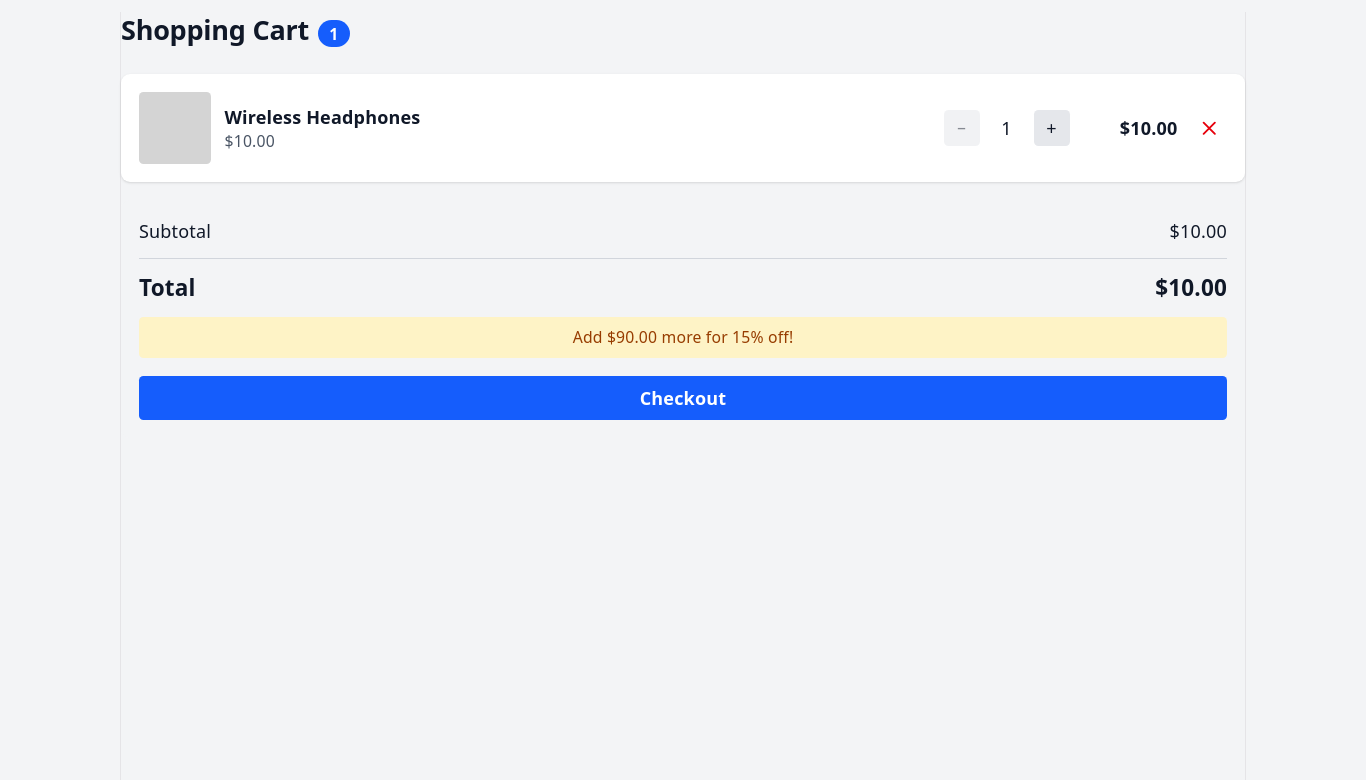
ShoppingCart › when the cart has items › shows the empty message after removing the last item
Click the button named "Remove Wireless Headphones from cart" at (1209, 128), box [1191,110,1227,146]
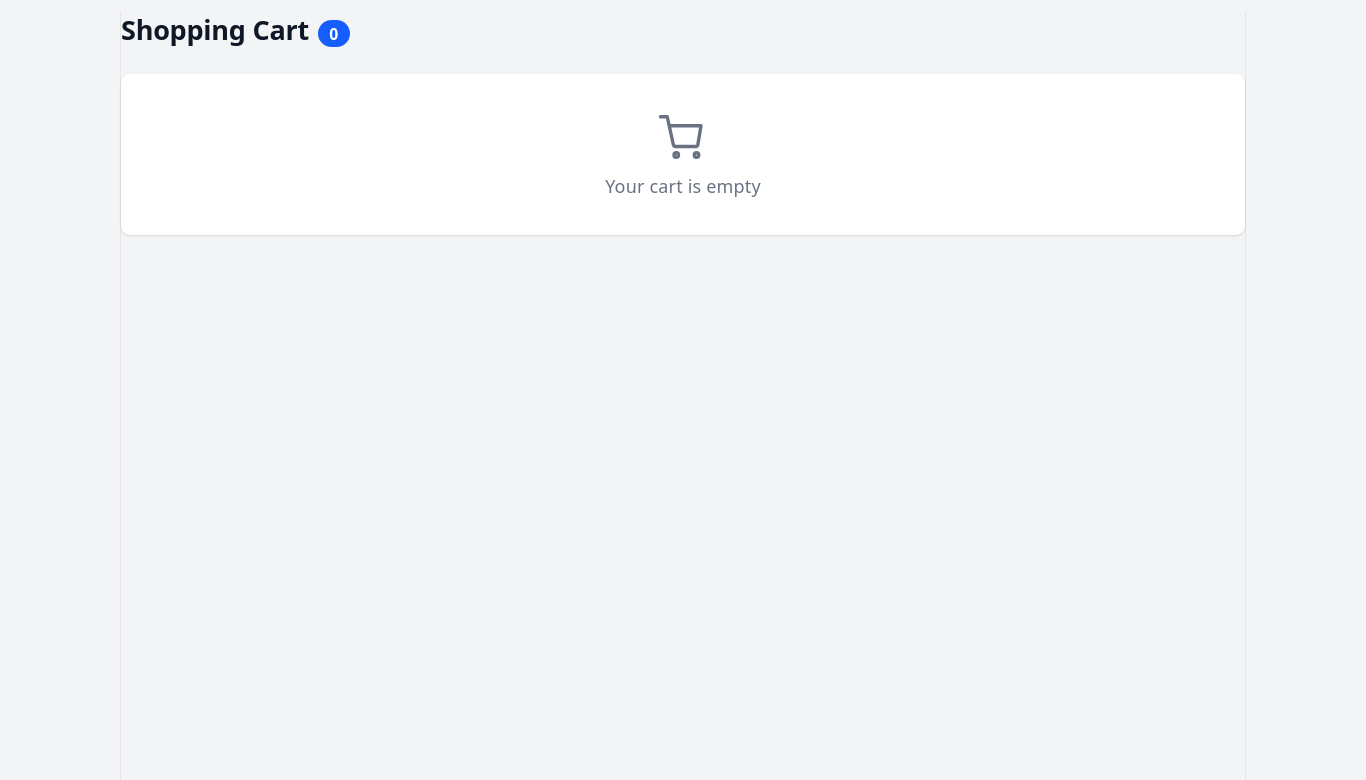
expect the text "Your cart is empty" is shown: met, box [605,173,761,199]
